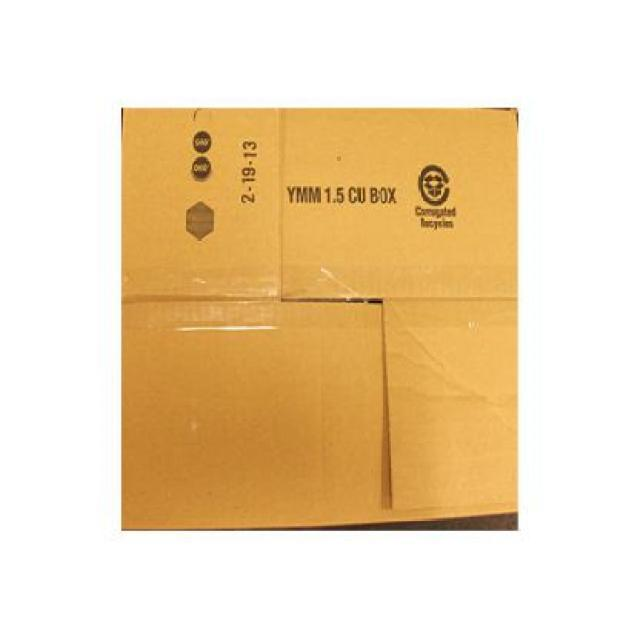box: (120, 106, 518, 526)
